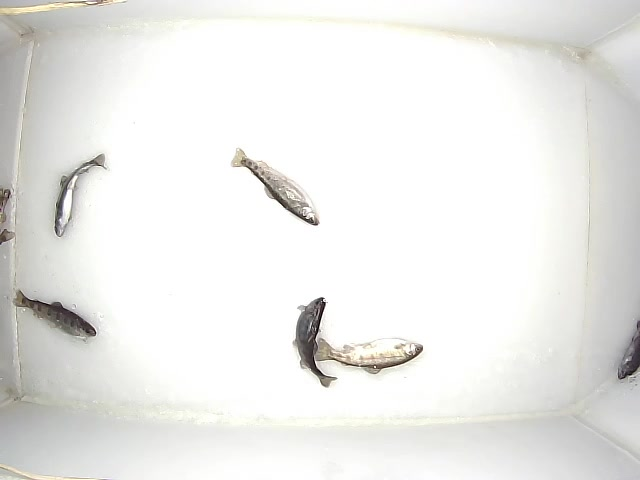fish: (230, 147, 320, 227), (55, 152, 105, 237), (12, 288, 96, 337), (313, 338, 423, 374), (296, 297, 338, 387), (617, 319, 640, 380)
